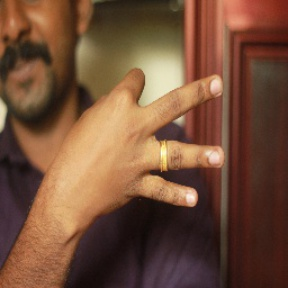K: (54, 69, 231, 214)
